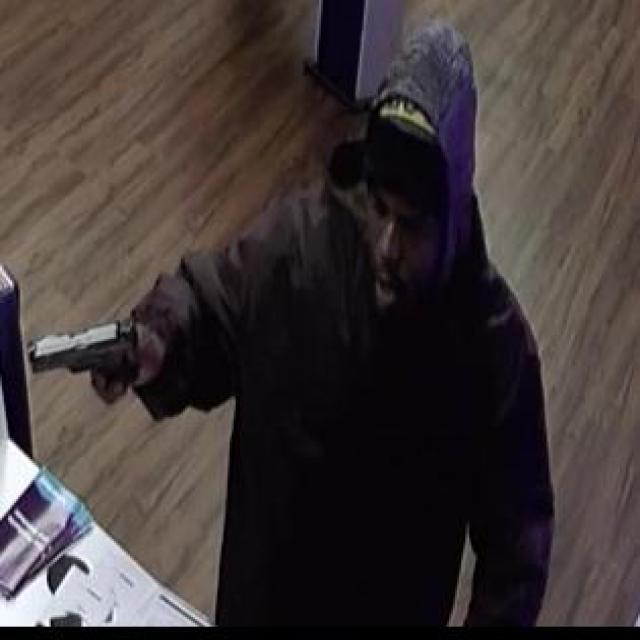Gun: (22, 318, 140, 402)
